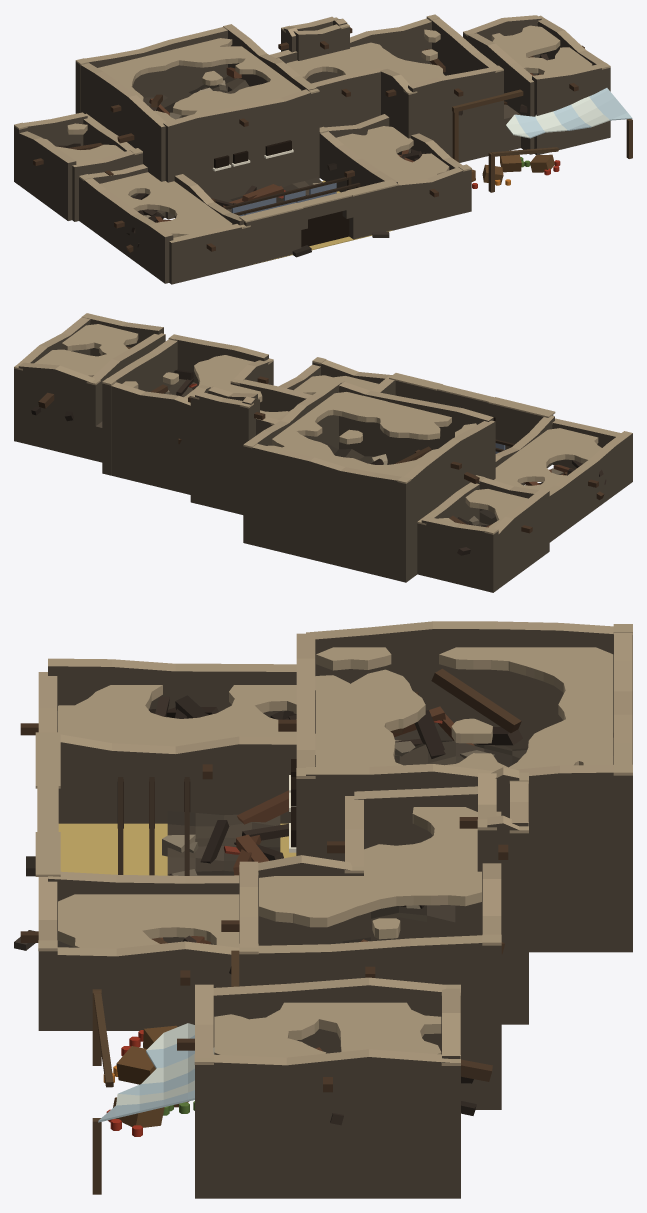
The model's file is VerBuild07a.glb.
3 views of the same model, one above another, from view 1: azimuth 30°, elevation 25°; view 2: azimuth 150°, elevation 25°; view 3: azimuth 270°, elevation 25° (orthographic). The views are drawn at different scales.
Parts seen in each view (by area): view 1: VerBuild07a_flat; view 2: VerBuild07a_flat; view 3: VerBuild07a_flat.
Part boxes in pixels (x1,y1,x2,y2): VerBuild07a_flat: (14,14,632,284); VerBuild07a_flat: (14,313,632,592); VerBuild07a_flat: (14,621,632,1198).
Size of the model in its own units: 18.39 by 4.13 by 10.15.
